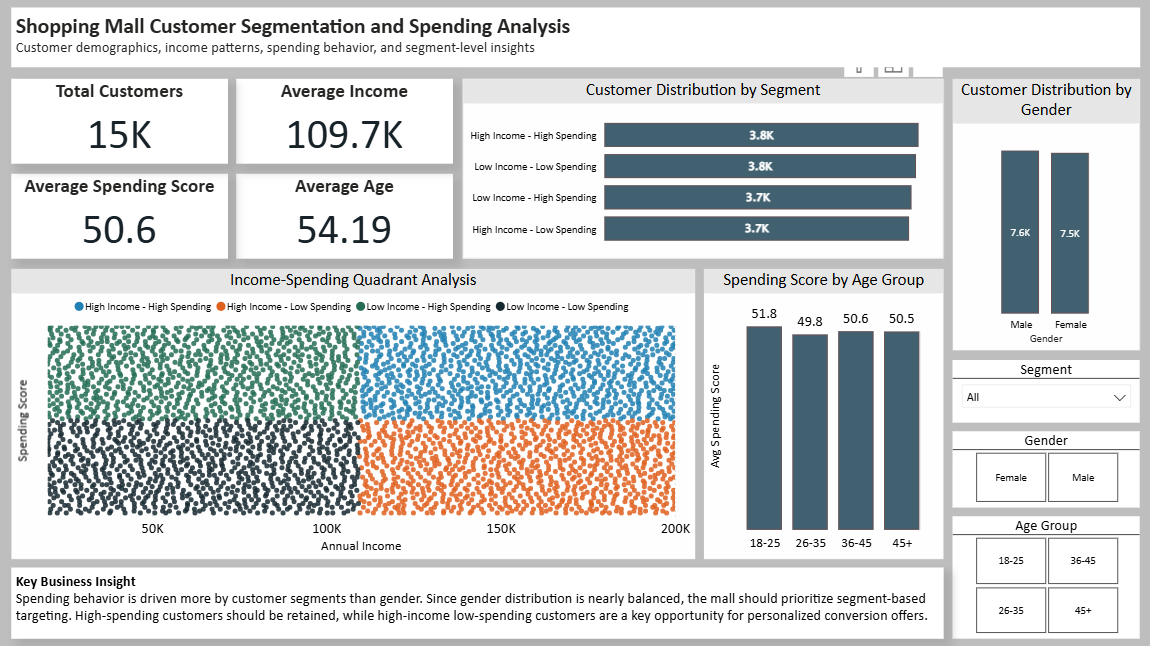

What the dashboard file says about the page in this screenshot:
{"tool":"powerbi","page":{"name":"Executive Overview","canvas":[1280,720],"ordinal":0},"visuals":[{"type":"card","title":"Average Age","fields":{"Values":["Avg(Shopping Mall Customer Segmentation Data.Age)"]},"box":[261.9,192.9,240.5,94],"z":0},{"type":"card","title":"Average Income","fields":{"Values":["Shopping Mall Customer Segmentation Data.Avg Income"]},"box":[261.9,88.1,240.5,94],"z":1000},{"type":"card","title":"Average Spending Score","fields":{"Values":["Shopping Mall Customer Segmentation Data.Avg Spending"]},"box":[13.1,192.9,240.5,94],"z":2000},{"type":"clusteredColumnChart","title":"Customer Distribution by Gender","fields":{"Category":["Shopping Mall Customer Segmentation Data.Gender"],"Y":["Shopping Mall Customer Segmentation Data.Total Customers"]},"box":[1058.3,87.5,208.3,301.4],"z":3000},{"type":"clusteredBarChart","title":"Customer Distribution by Segment","fields":{"Category":["Shopping Mall Customer Segmentation Data.Segment"],"Y":["Shopping Mall Customer Segmentation Data.Total Customers"]},"box":[513.9,87.5,534.7,200],"z":4000},{"type":"scatterChart","title":"Income-Spending Quadrant Analysis","fields":{"Series":["Shopping Mall Customer Segmentation Data.Segment"],"Category":["Shopping Mall Customer Segmentation Data.Customer ID"],"X":["Shopping Mall Customer Segmentation Data.Avg Income"],"Y":["Shopping Mall Customer Segmentation Data.Avg Spending Score"]},"box":[12.5,298.6,759.7,322.2],"z":5000},{"type":"slicer","title":"Gender","fields":{"Values":["Shopping Mall Customer Segmentation Data.Gender"]},"box":[1058.3,479.2,208.3,84.7],"z":6000},{"type":"slicer","title":"Age Group","fields":{"Values":["Shopping Mall Customer Segmentation Data.Age Group"]},"box":[1058.3,573.6,208.3,136.1],"z":7000},{"type":"slicer","title":"Segment","fields":{"Values":["Shopping Mall Customer Segmentation Data.Segment"]},"box":[1058.3,400,208.3,69.4],"z":8000},{"type":"card","title":"Total Customers","fields":{"Values":["Shopping Mall Customer Segmentation Data.Total Customers"]},"box":[13.1,88.1,240.5,94],"z":9000},{"type":"clusteredColumnChart","title":"Spending Score by Age Group","fields":{"Y":["Shopping Mall Customer Segmentation Data.Avg Spending"],"Category":["Shopping Mall Customer Segmentation Data.Age Group"]},"box":[781.9,298.6,266.7,322.2],"z":10000},{"type":"textbox","box":[12.5,8.3,1254.2,66.7],"z":11000},{"type":"textbox","box":[12.5,630.6,1036.1,79.2],"z":12000}]}

Visuals, with their boxes in screenshot pixels (x1, y1, x2, y2), scaled from the page's 1280x720 canvas onto the 1150x646 screenshot:
"Average Age" card: (x1=235, y1=173, x2=451, y2=257)
"Average Income" card: (x1=235, y1=79, x2=451, y2=163)
"Average Spending Score" card: (x1=12, y1=173, x2=228, y2=257)
"Customer Distribution by Gender" clusteredColumnChart: (x1=951, y1=79, x2=1138, y2=349)
"Customer Distribution by Segment" clusteredBarChart: (x1=462, y1=79, x2=942, y2=258)
"Income-Spending Quadrant Analysis" scatterChart: (x1=11, y1=268, x2=694, y2=557)
"Gender" slicer: (x1=951, y1=430, x2=1138, y2=506)
"Age Group" slicer: (x1=951, y1=515, x2=1138, y2=637)
"Segment" slicer: (x1=951, y1=359, x2=1138, y2=421)
"Total Customers" card: (x1=12, y1=79, x2=228, y2=163)
"Spending Score by Age Group" clusteredColumnChart: (x1=702, y1=268, x2=942, y2=557)
textbox: (x1=11, y1=7, x2=1138, y2=67)
textbox: (x1=11, y1=566, x2=942, y2=637)
